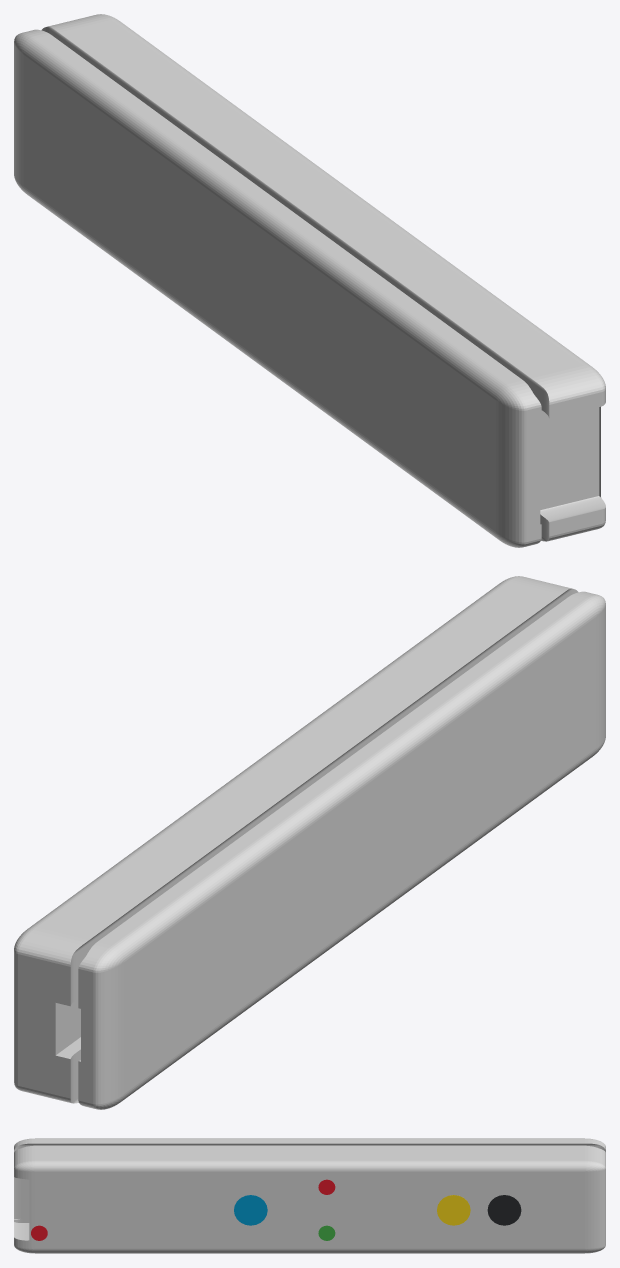
File: tinker.obj
The picture shows the model from 3 angles, top to bottom: view 1: azimuth 30°, elevation 25°; view 2: azimuth 150°, elevation 25°; view 3: azimuth 270°, elevation 25°; orthographic projection. The views are drawn at different scales.
Parts seen in each view (by area): view 1: group_0_16448250; view 2: group_0_16448250; view 3: group_0_16448250, group_0_40919, group_0_2829873, group_0_16768282, group_0_15277357, group_0_4634441.
Boxes of the visible parts, bbox=[...] form: group_0_16448250: bbox=[14, 14, 605, 547]; group_0_16448250: bbox=[14, 576, 605, 1109]; group_0_16448250: bbox=[14, 1138, 605, 1253]; group_0_40919: bbox=[234, 1195, 267, 1225]; group_0_2829873: bbox=[487, 1195, 521, 1225]; group_0_16768282: bbox=[437, 1195, 470, 1225]; group_0_15277357: bbox=[31, 1179, 335, 1240]; group_0_4634441: bbox=[318, 1225, 335, 1240].
Bounding box in the file's own units: 4.01 × 6 × 35.
